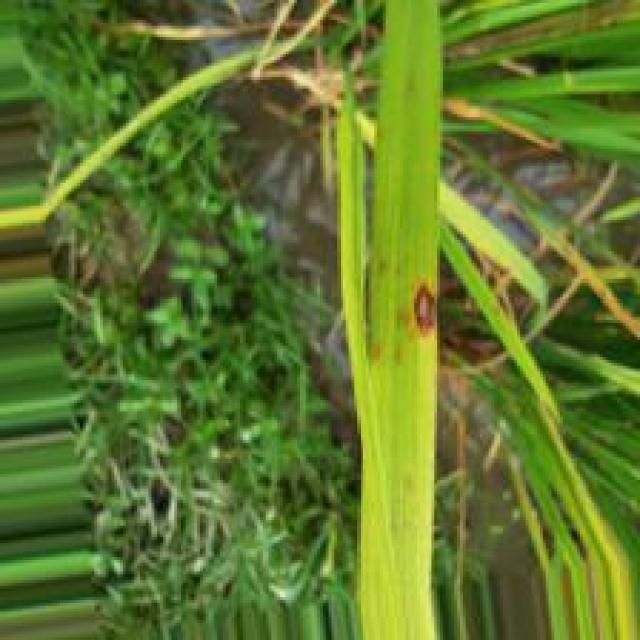Brown_Spot: (413, 277, 438, 341)
